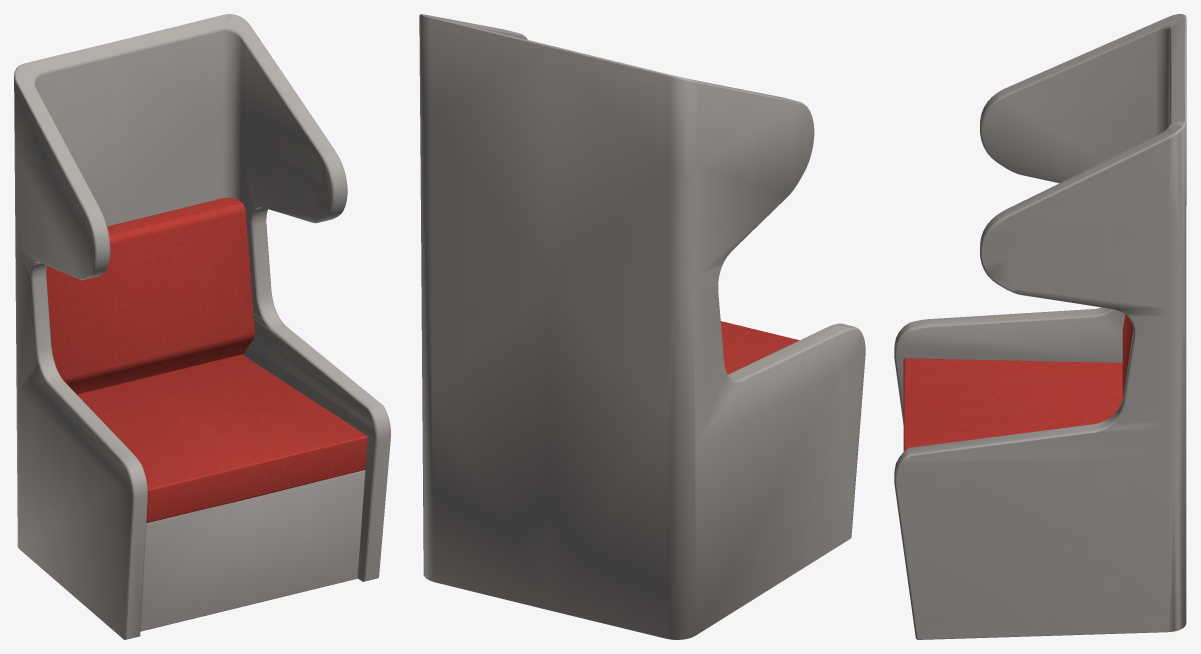
3 renders of one model, left to right at view 1: azimuth 30°, elevation 25°; view 2: azimuth 150°, elevation 25°; view 3: azimuth 270°, elevation 25°, orthographic. The views are drawn at different scales.
Parts seen in each view (by area): view 1: Winged Office Chair; view 2: Winged Office Chair; view 3: Winged Office Chair.
Part boxes in pixels (box(x1,y1,x2,y2)): Winged Office Chair: box(14, 14, 390, 639); Winged Office Chair: box(419, 14, 865, 639); Winged Office Chair: box(894, 14, 1186, 639).
Bounding box in the file's own units: 0.8009 × 1.41 × 0.7412.
1 material, 1 textured.
